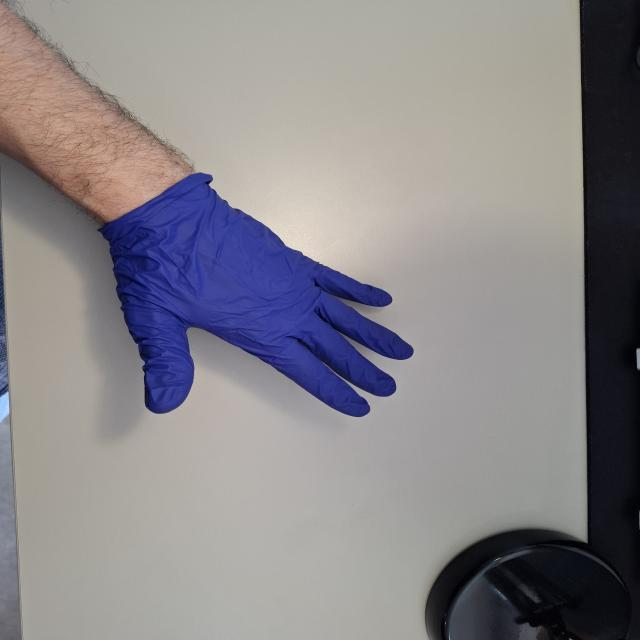glove_on: (94, 169, 418, 422)
